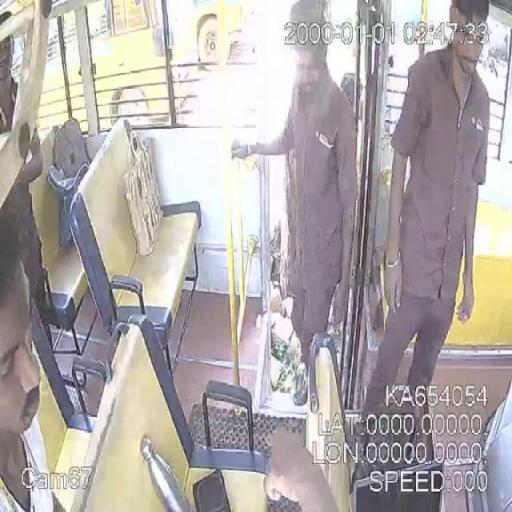persona: (352, 1, 492, 474), (230, 0, 359, 406), (0, 201, 69, 512)
